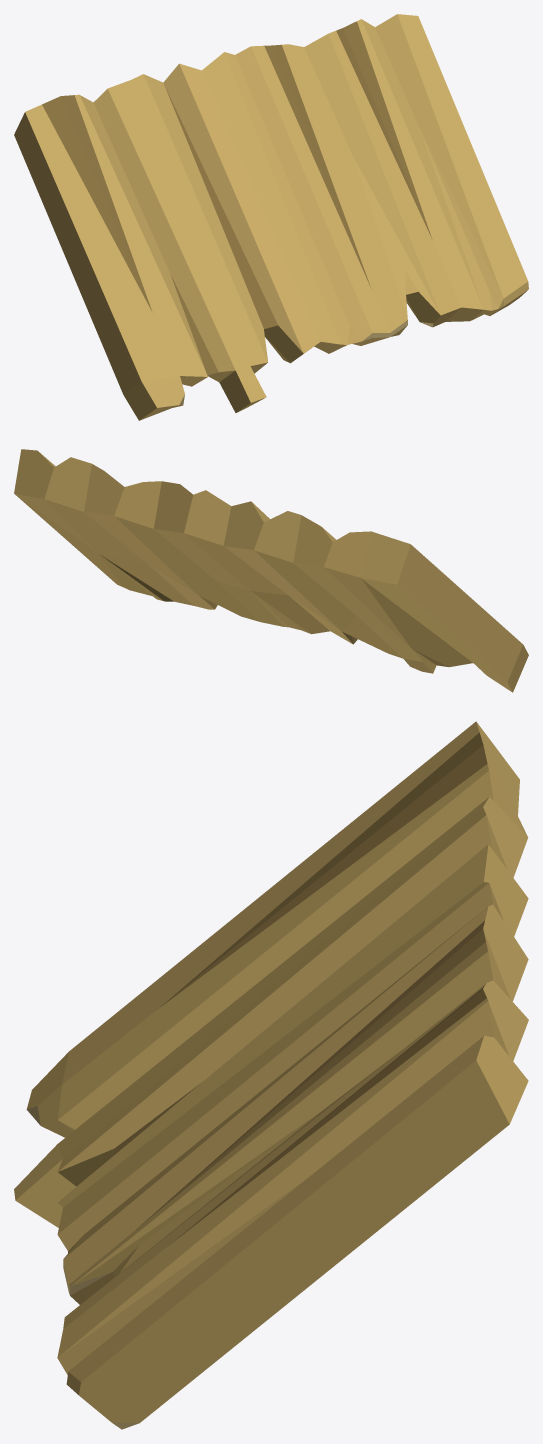
The picture shows the model from 3 angles, top to bottom: view 1: azimuth 30°, elevation 25°; view 2: azimuth 150°, elevation 25°; view 3: azimuth 270°, elevation 25°; orthographic projection. The views are drawn at different scales.
Parts seen in each view (by area): view 1: Cube.004; view 2: Cube.004; view 3: Cube.004.
Part boxes in pixels (x1,y1,x2,y2): Cube.004: (14, 14, 528, 420); Cube.004: (14, 449, 528, 692); Cube.004: (14, 721, 528, 1429).
Size of the model in its own units: 6.93 by 4.16 by 4.45.
1 material, 1 textured.
